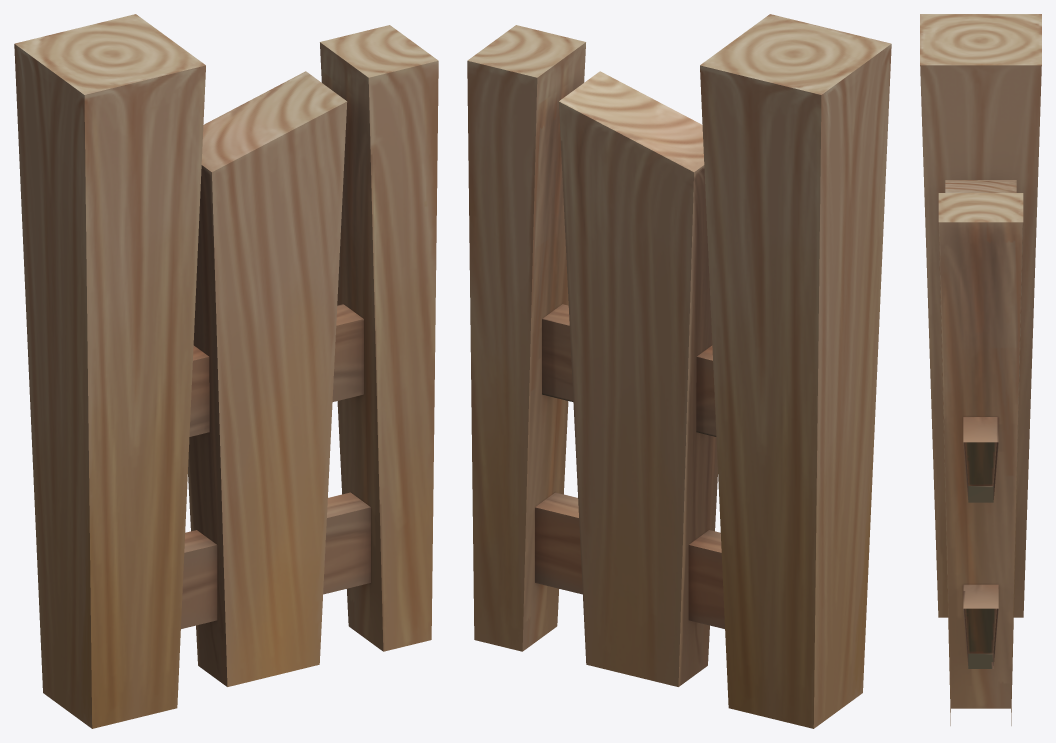
The model's file is fence2_end.obj.
3 renders of one model, left to right at view 1: azimuth 30°, elevation 25°; view 2: azimuth 150°, elevation 25°; view 3: azimuth 270°, elevation 25°, orthographic. The views are drawn at different scales.
Visible parts, largest first — view 1: fence2_end; view 2: fence2_end; view 3: fence2_end.
Boxes of the visible parts, x1=… form: fence2_end: x1=14, y1=14, x2=438, y2=728; fence2_end: x1=467, y1=14, x2=891, y2=728; fence2_end: x1=920, y1=14, x2=1041, y2=725.
Bounding box in the file's own units: 30.25 × 50.83 × 10.
